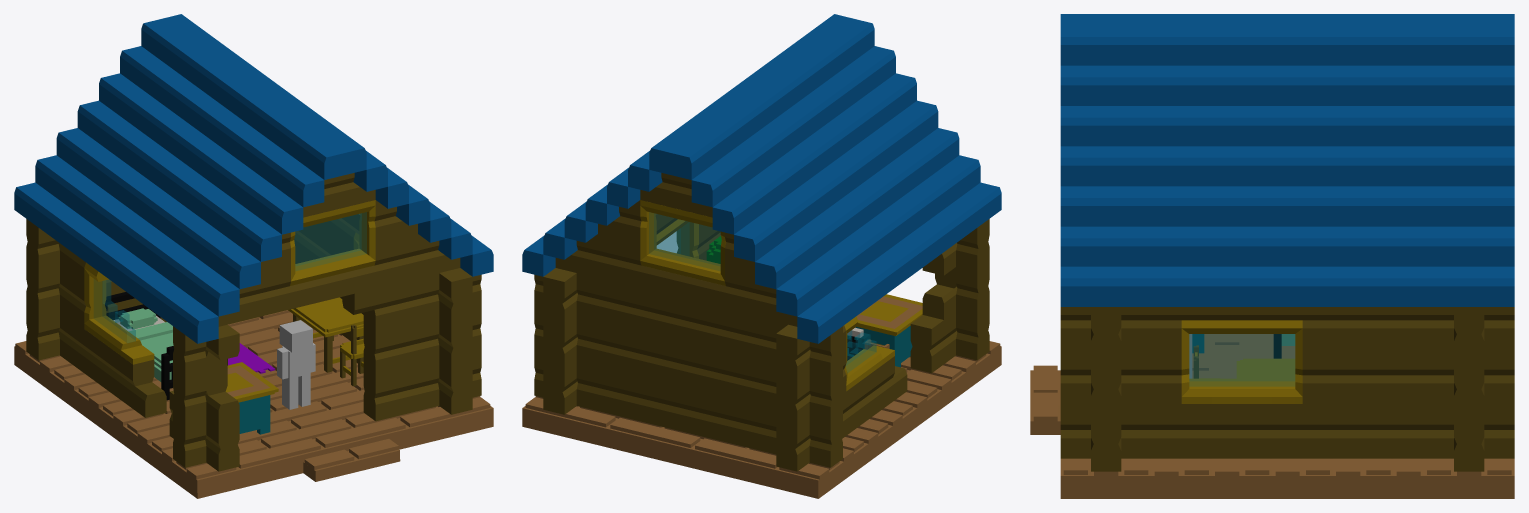
The model's file is House.fbx.
3 views of the same model, side by side, from view 1: azimuth 30°, elevation 25°; view 2: azimuth 150°, elevation 25°; view 3: azimuth 270°, elevation 25° (orthographic). The views are drawn at different scales.
Visible parts, largest first — view 1: Roof, Wall_Destroy (×2), Floor, Roof_Wall_Front, Wall, Window, Back_Wall, Window_Destroy, People, Bad, Workbench, Table_Wood (+2 smaller); view 2: Roof, Back_Wall, Floor, Wall_Destroy (×2), Roof_Wall_Back, Window (×2), Wall, Workbench, Window_Destroy; view 3: Roof, Wall, Floor, Window, Back_Wall, Wall_Destroy, Table_Wood.
Part boxes in pixels (x1,y1,x2,y2): Roof: (14, 14, 493, 343); Wall_Destroy (×2): (58, 243, 481, 471); Floor: (14, 310, 493, 498); Roof_Wall_Front: (218, 173, 460, 326); Wall: (294, 214, 472, 414); Window: (290, 200, 375, 285); Back_Wall: (26, 219, 166, 360); Window_Destroy: (84, 262, 154, 364); People: (277, 320, 315, 409); Bad: (105, 292, 227, 400); Workbench: (225, 362, 278, 434); Table_Wood: (288, 297, 363, 372); Roof: (522, 14, 1001, 343); Back_Wall: (534, 273, 842, 467); Floor: (522, 341, 1001, 498); Wall_Destroy (×2): (776, 219, 989, 471); Roof_Wall_Back: (555, 173, 797, 326); Window (×2): (640, 200, 725, 285); Wall: (543, 214, 720, 414); Workbench: (847, 294, 922, 367); Window_Destroy: (844, 316, 894, 390); Roof: (1060, 14, 1514, 306); Wall: (1060, 307, 1514, 458); Floor: (1030, 334, 1514, 498); Window: (1181, 320, 1302, 403); Back_Wall: (1454, 307, 1484, 471); Wall_Destroy: (1091, 307, 1121, 471); Table_Wood: (1236, 358, 1295, 378).
Bounding box in the file's own units: 14 × 14 × 16.
